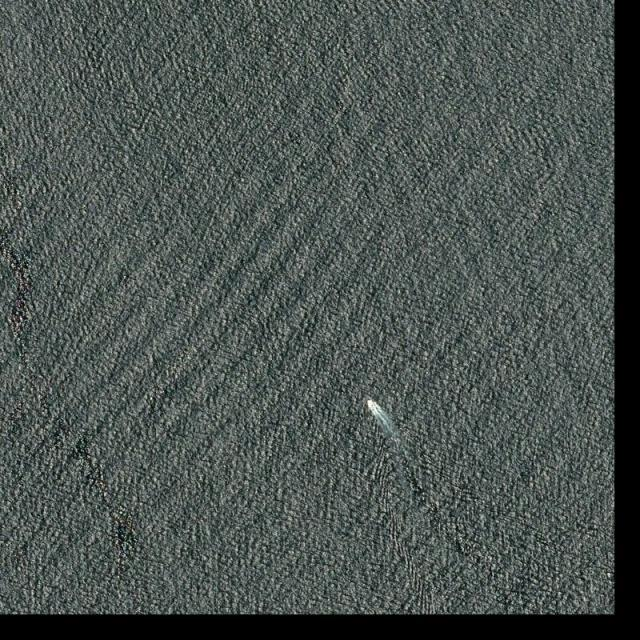ship: (366, 400, 377, 410)
